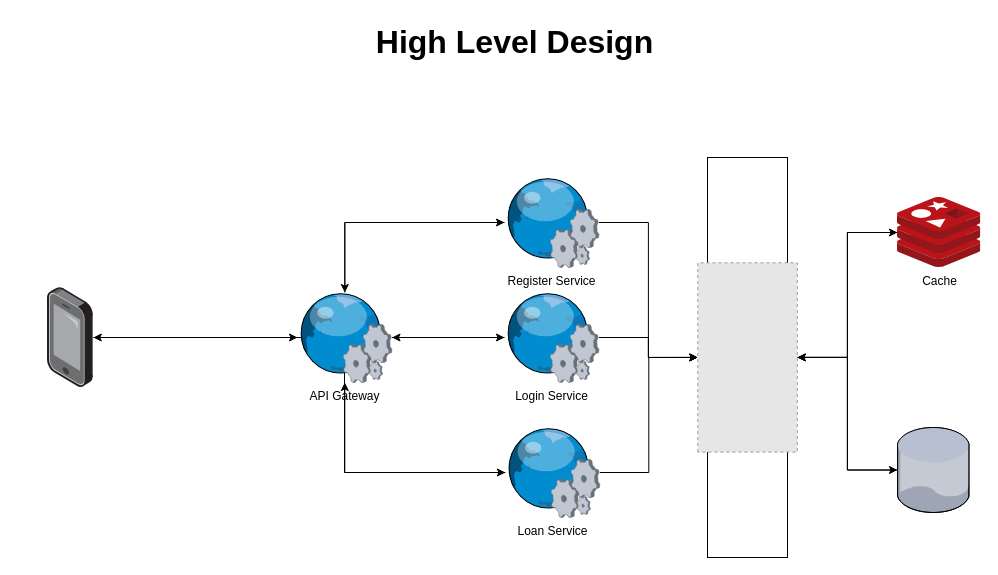
Image size: 998x575. Some labels were removed from this diagram. Grey dashed boxes stand in for pictures. The shapes that lost their labels are listed below. From the top down, each one's box as (x1, y1, x2, y2) in pixels, then its label:
(47, 287, 93, 387): Client (Mobile Apps)
(897, 427, 969, 512): Database
